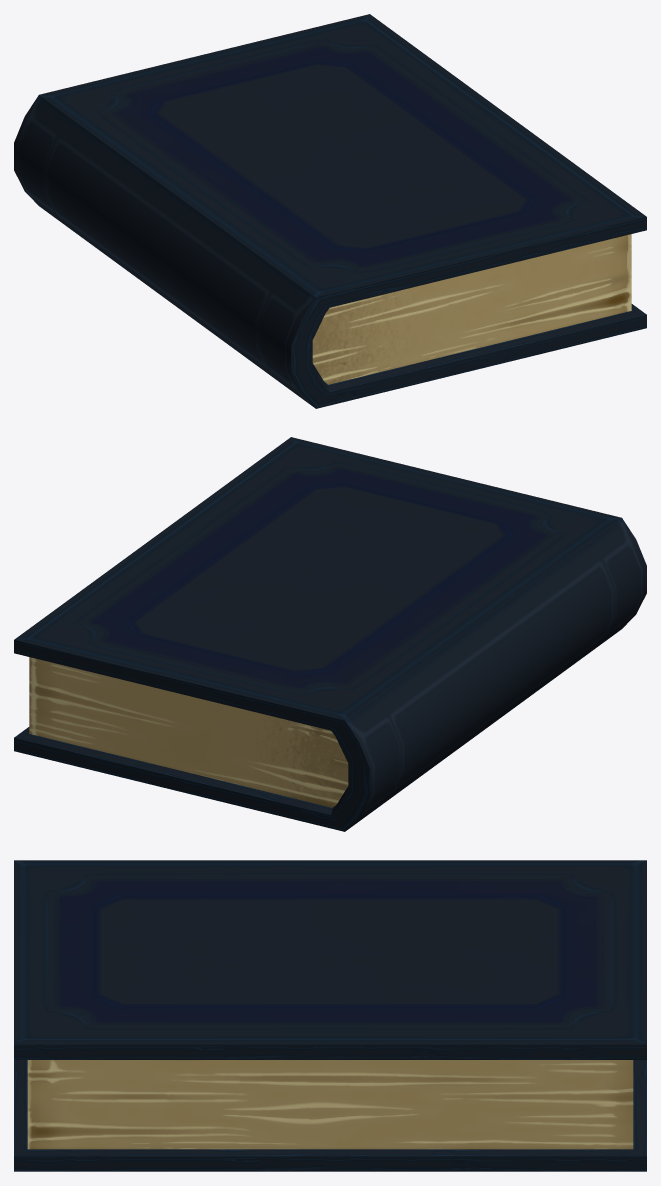
Rendered from Book 5.glb.
3 renders of one model, top to bottom at view 1: azimuth 30°, elevation 25°; view 2: azimuth 150°, elevation 25°; view 3: azimuth 270°, elevation 25°, orthographic. The views are drawn at different scales.
Parts seen in each view (by area): view 1: Book_5; view 2: Book_5; view 3: Book_5.
Boxes of the visible parts, box(x1,y1,x2,y2) form: Book_5: box(14, 14, 646, 408); Book_5: box(14, 437, 646, 831); Book_5: box(14, 860, 646, 1171).
Bounding box in the file's own units: 0.2129 × 0.0636 × 0.2871.
Materials: 1 (1 with a texture image).
